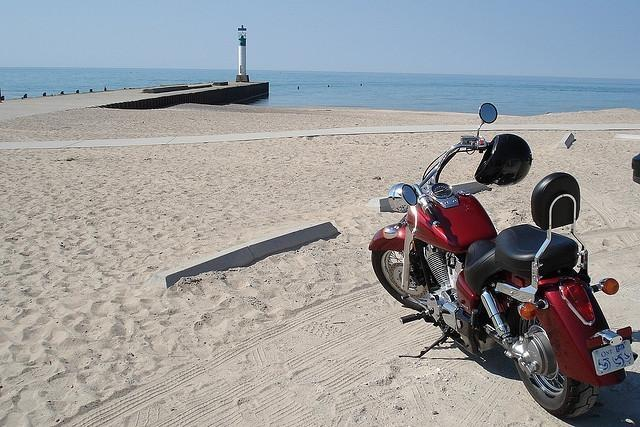motorcycle: (370, 99, 638, 420)
